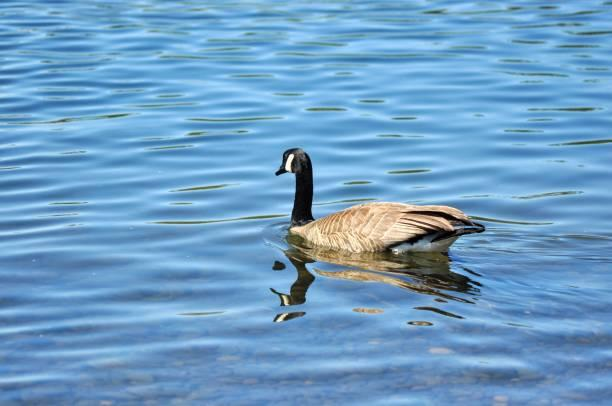Canadian-Goose: (274, 140, 487, 259)
